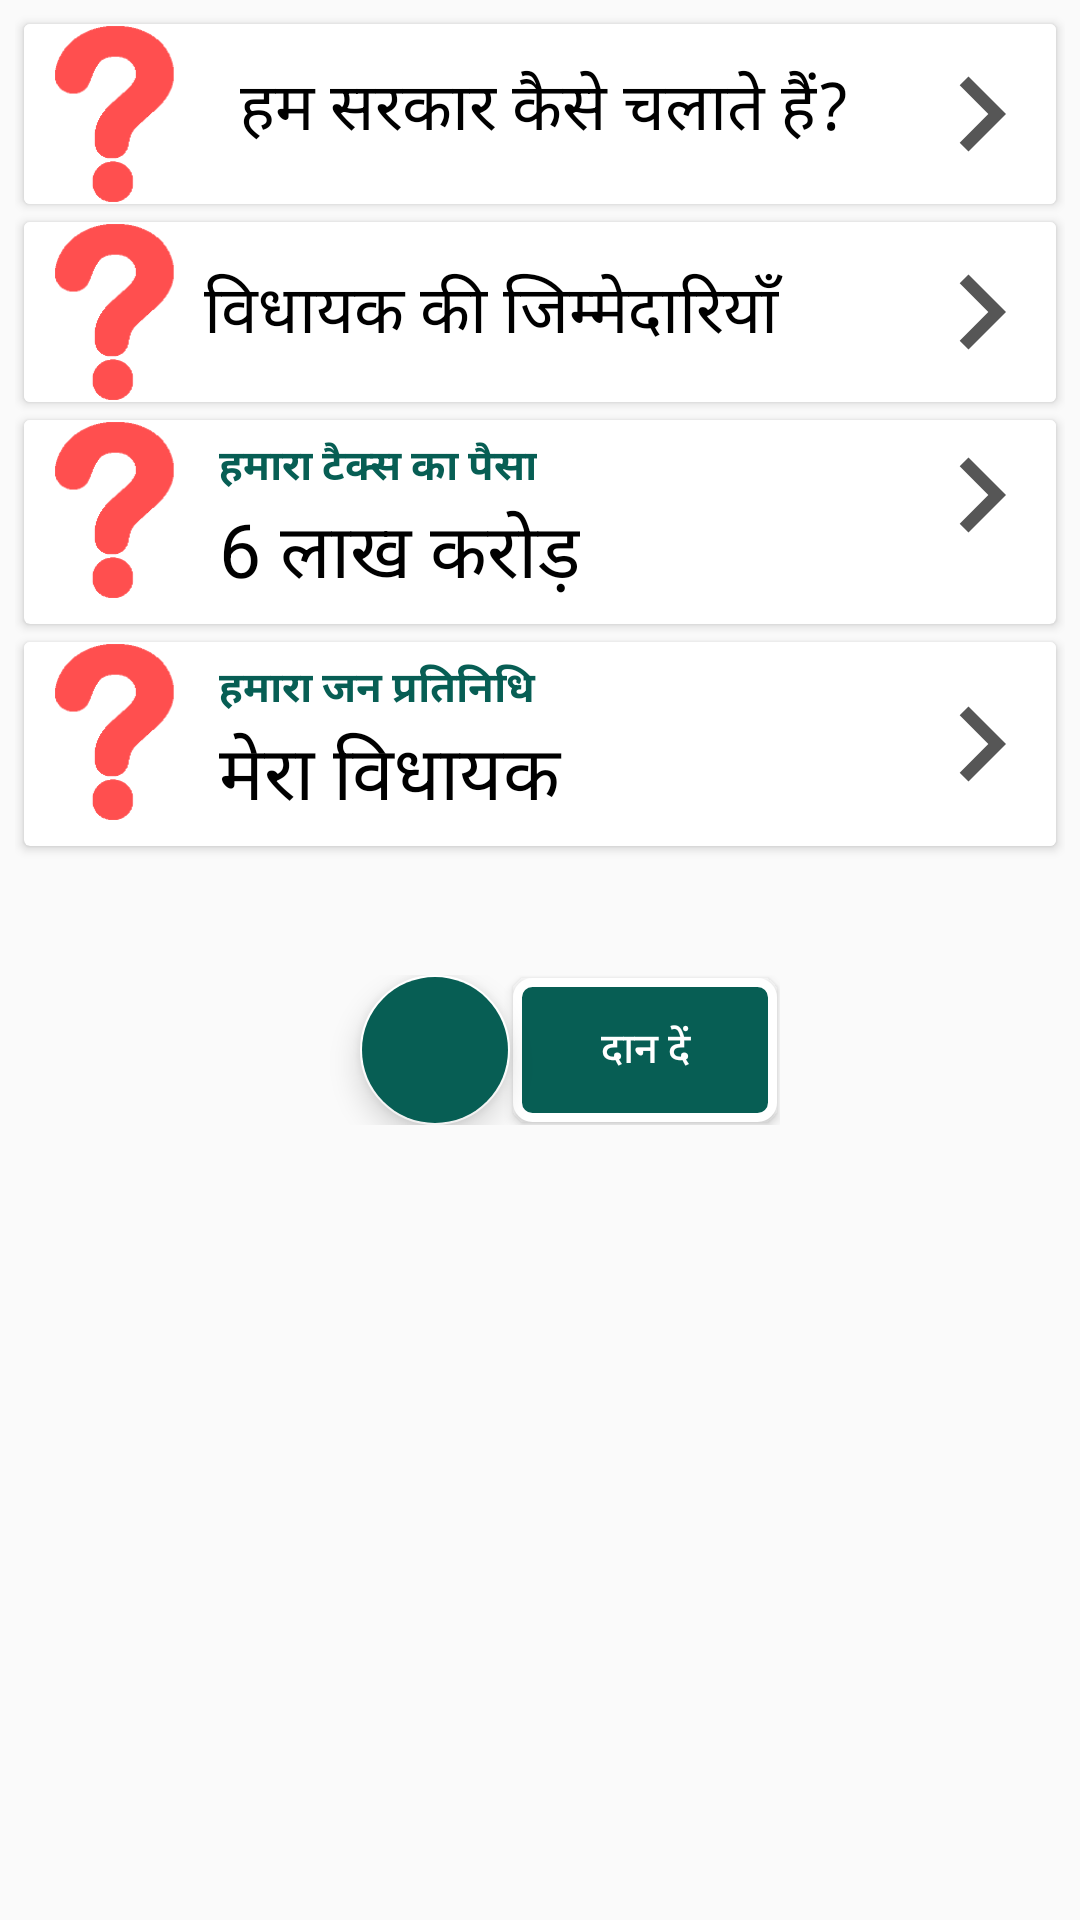

Locate icon controls on the screen. Image size 1080 x 1920, boxes as (x1, y1, x2, y2).
issues: (55, 26, 174, 202), (26, 222, 174, 400), (55, 422, 174, 598), (55, 644, 174, 820)
